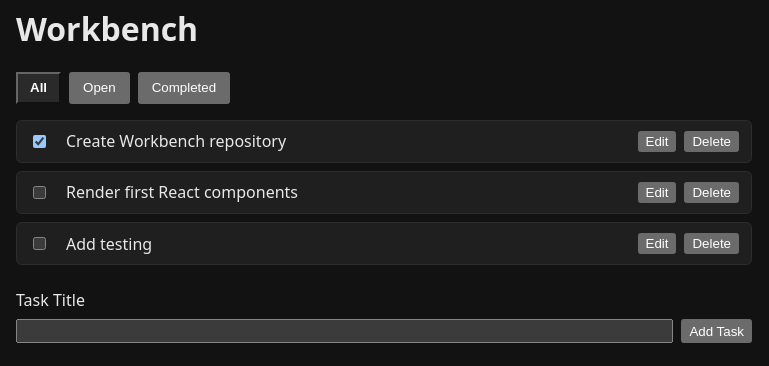
Test: trims whitespace from the edited task title when saving
Click the button with aria-label "edit render first react components" at (657, 192), box [638,182,676,203]
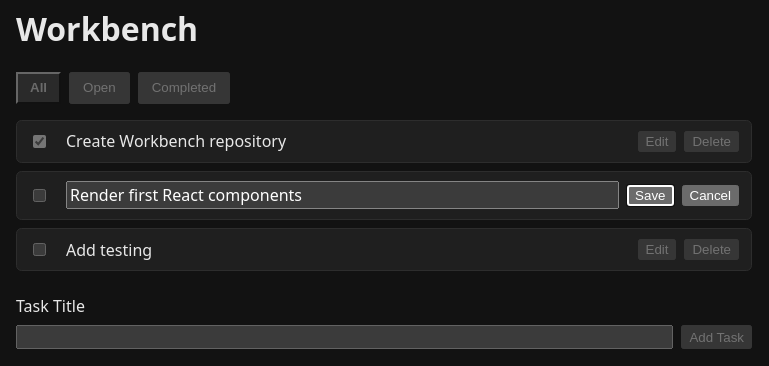
Replace the text in the field named "render first react components" with "   Test edit task    " at (343, 195), box [66,181,619,209]
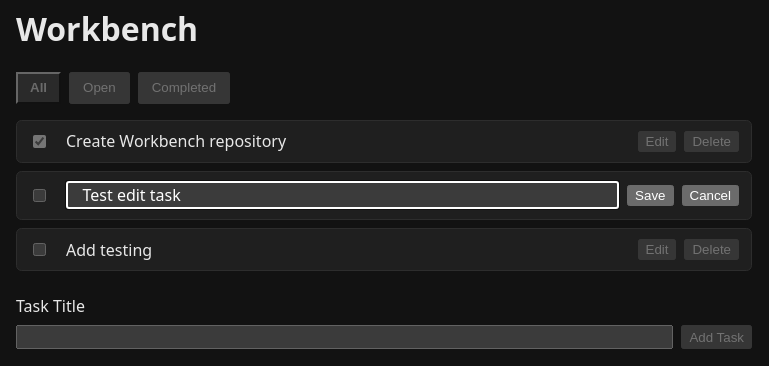
Click the button "Save" at (650, 195), box [627,185,674,206]
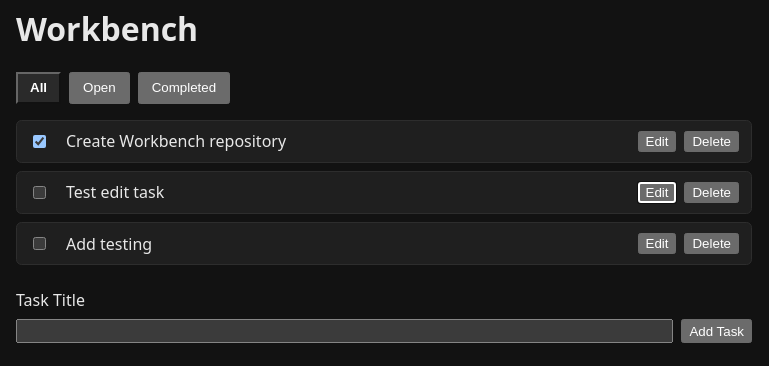
Expected: the text "Test edit task" is shown, [66,181,164,203]
